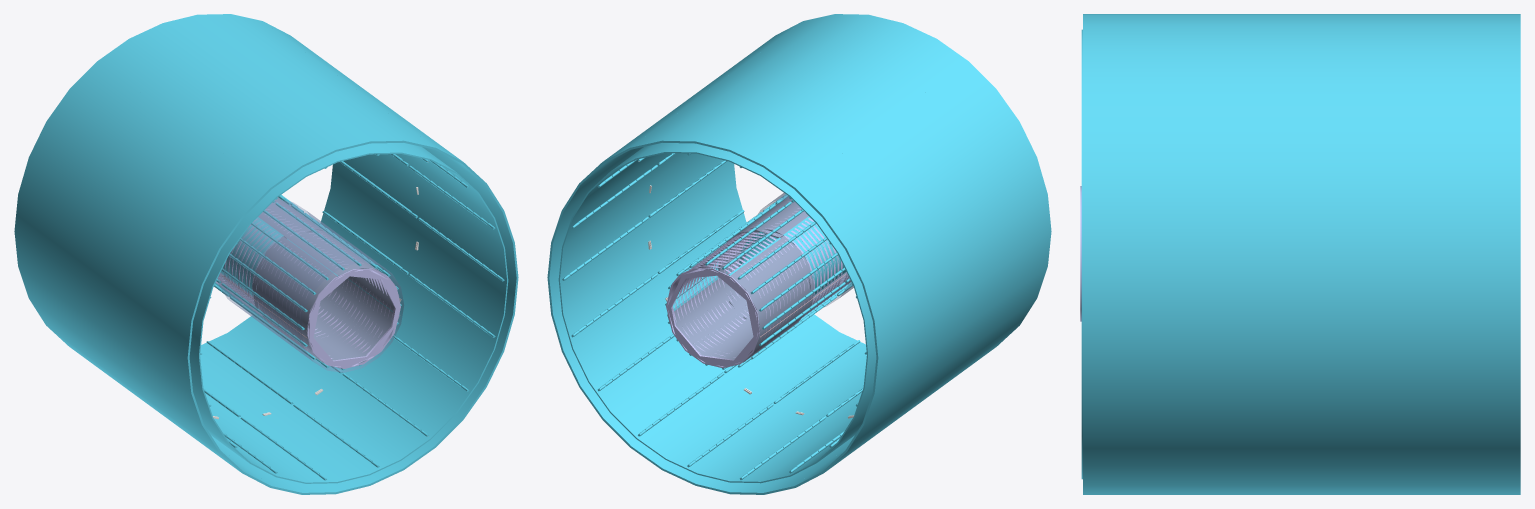
File: tpc.glb
The picture shows the model from 3 angles, left to right: view 1: azimuth 30°, elevation 25°; view 2: azimuth 150°, elevation 25°; view 3: azimuth 270°, elevation 25°; orthographic projection. The views are drawn at different scales.
Parts seen in each view (by area): view 1: TPC_OCV1_3.001, TPC_OCV1_2.001, TPC_OFC1_6.001, TPC_OFC1_5.001, TPC_OCV1_4.001, TPC_Strip_1.001, TPC_OFC1_1.001, TPC_IFC4_1.007, TPC_IFC4_1.011, TPC_OCV1_1.001, TPC_OCV1_5.001, TPC_IFC4_1.003 (+8 smaller); view 2: TPC_OCV1_3.001, TPC_OCV1_2.001, TPC_OFC1_6.001, TPC_OFC1_5.001, TPC_OCV1_4.001, TPC_OFC1_1.001, TPC_IFC4_1.005, TPC_IFC4_1.009, TPC_OCV1_1.001, TPC_OCV1_5.001, TPC_OCV1_6.001, TPC_IFC1_1.001 (+6 smaller); view 3: TPC_OCV1_1.001, TPC_OCV1_6.001, TPC_OCV1_2.001.
Boxes of the visible parts, x1,y1,x2,y2 form: TPC_OCV1_3.001: (14,61,270,357); TPC_OCV1_2.001: (97,14,435,189); TPC_OFC1_6.001: (320,162,508,438); TPC_OFC1_5.001: (200,315,430,483); TPC_OCV1_4.001: (14,231,270,487); TPC_Strip_1.001: (218,200,403,372); TPC_OFC1_1.001: (344,144,508,280); TPC_IFC4_1.007: (256,239,337,362); TPC_IFC4_1.011: (313,279,399,368); TPC_OCV1_1.001: (264,22,518,277); TPC_OCV1_5.001: (211,435,435,494); TPC_IFC4_1.003: (287,232,399,315); TPC_OCV1_3.001: (795,61,1051,357); TPC_OCV1_2.001: (630,14,968,189); TPC_OFC1_6.001: (558,160,746,438); TPC_OFC1_5.001: (636,314,866,483); TPC_OCV1_4.001: (795,231,1051,487); TPC_OFC1_1.001: (558,144,723,279); TPC_IFC4_1.005: (729,239,810,361); TPC_IFC4_1.009: (667,278,753,367); TPC_OCV1_1.001: (547,22,801,277); TPC_OCV1_5.001: (630,435,854,494); TPC_OCV1_6.001: (547,271,638,447); TPC_IFC1_1.001: (667,269,758,366); TPC_OCV1_1.001: (1083,116,1520,356); TPC_OCV1_6.001: (1083,357,1520,494); TPC_OCV1_2.001: (1083,14,1520,115).
Bounding box in the file's own units: 556 × 553 × 507.
